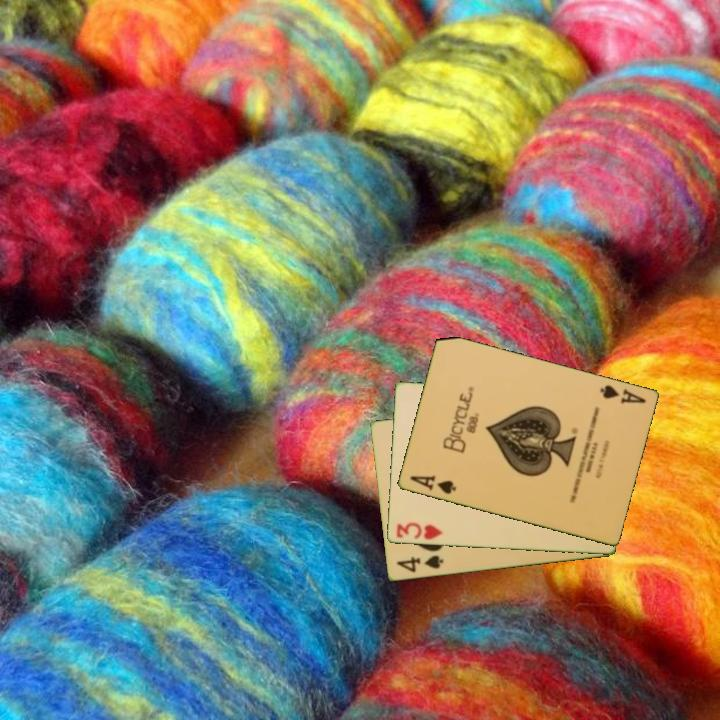3h: (393, 519, 445, 543)
4s: (393, 552, 446, 576)
As: (406, 472, 459, 497), (596, 382, 648, 407)
